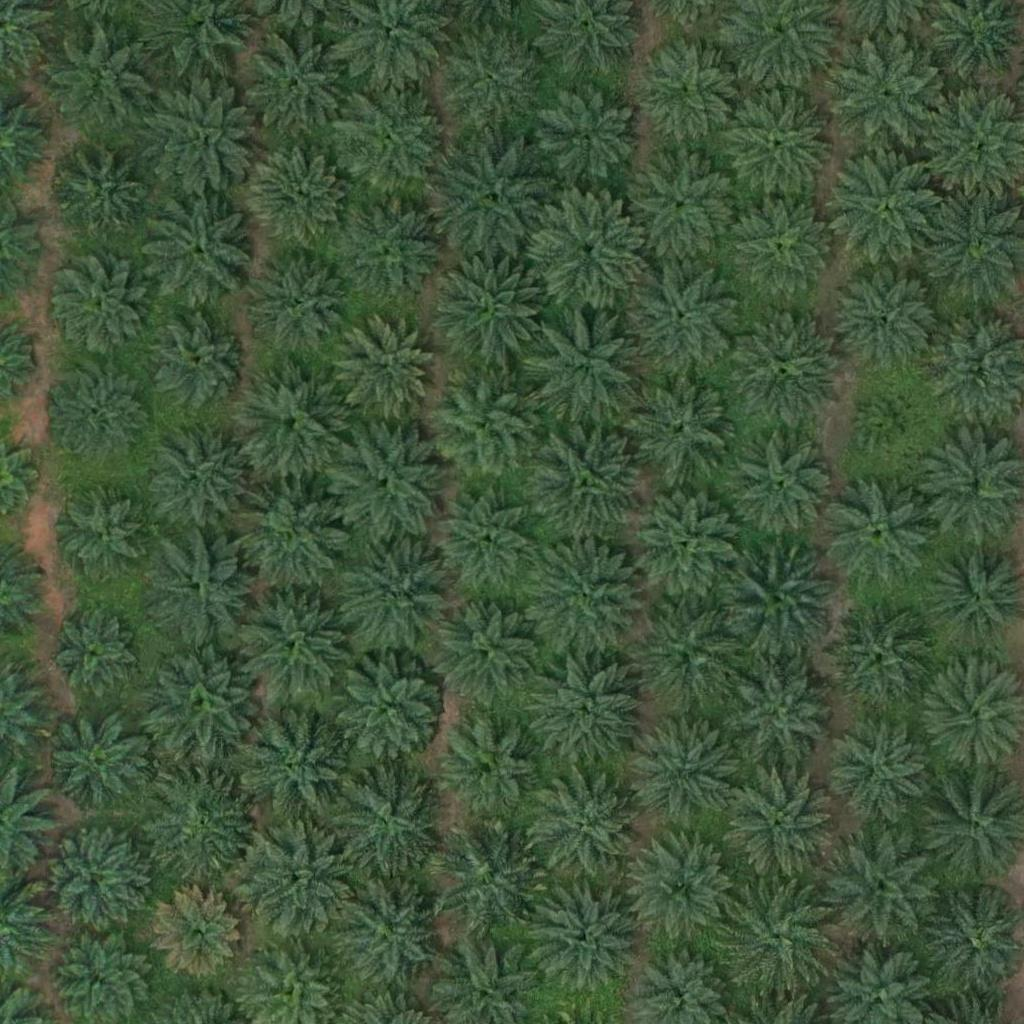Kelapa_Sawit: (831, 151, 944, 265), (426, 367, 539, 481), (531, 425, 644, 539), (531, 543, 644, 657), (630, 599, 743, 713), (631, 714, 744, 828), (834, 42, 947, 155), (533, 194, 646, 307), (530, 306, 643, 419), (434, 24, 547, 137), (439, 143, 552, 256), (432, 255, 545, 368), (141, 79, 254, 192), (141, 195, 254, 308), (139, 307, 252, 420), (140, 420, 253, 533), (146, 533, 259, 646), (146, 647, 259, 760), (236, 588, 349, 701), (238, 714, 351, 827), (241, 824, 354, 937), (527, 656, 640, 769), (534, 774, 647, 887), (627, 833, 740, 946), (823, 477, 936, 590), (820, 599, 933, 712), (333, 877, 446, 990), (727, 89, 839, 203), (632, 489, 744, 603), (724, 654, 836, 768), (723, 771, 835, 885), (826, 832, 938, 946), (729, 315, 841, 428), (628, 152, 740, 265), (632, 262, 744, 375), (337, 83, 449, 196), (335, 196, 447, 309), (239, 25, 351, 138), (147, 769, 259, 882), (232, 366, 344, 479), (235, 482, 347, 595), (334, 426, 446, 539), (340, 538, 452, 651), (334, 650, 446, 763), (329, 763, 441, 876), (433, 593, 545, 706), (430, 823, 542, 936), (626, 371, 738, 484), (724, 547, 836, 660), (718, 880, 830, 993), (527, 877, 639, 990), (338, 315, 438, 416), (246, 147, 346, 248), (251, 253, 351, 354), (46, 30, 146, 131), (48, 143, 148, 244), (52, 489, 152, 590), (45, 712, 145, 813), (442, 716, 542, 817), (734, 436, 834, 537), (839, 268, 939, 368), (732, 199, 832, 299), (638, 45, 738, 145), (541, 89, 641, 189), (49, 259, 149, 359), (49, 363, 149, 463), (45, 828, 145, 928), (437, 494, 537, 594), (829, 719, 929, 819), (49, 608, 137, 696), (153, 889, 241, 977), (860, 393, 922, 456)
